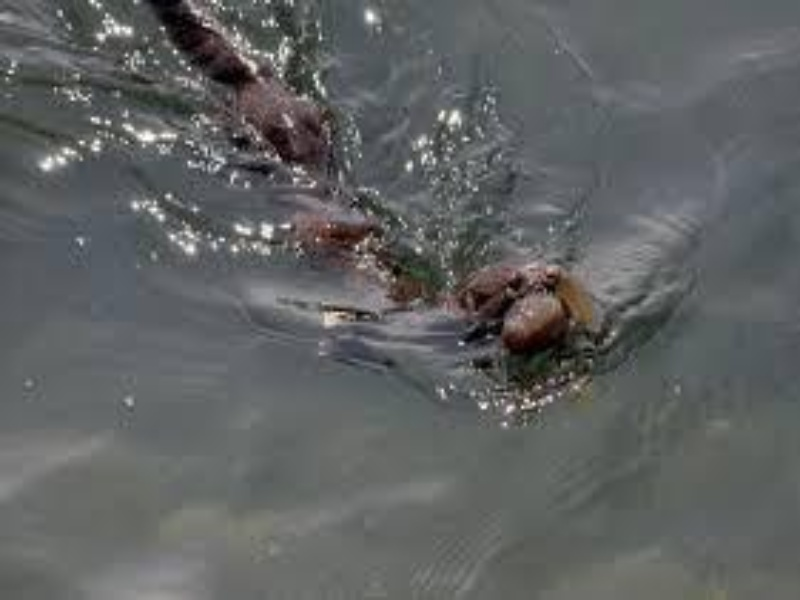minkish: (164, 8, 563, 334)
